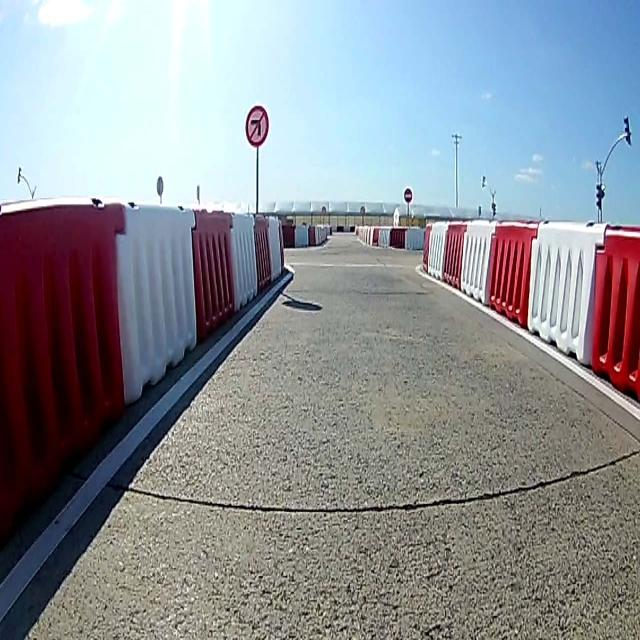girisyok: (403, 188, 412, 204)
soladonulmez: (245, 105, 269, 147)
